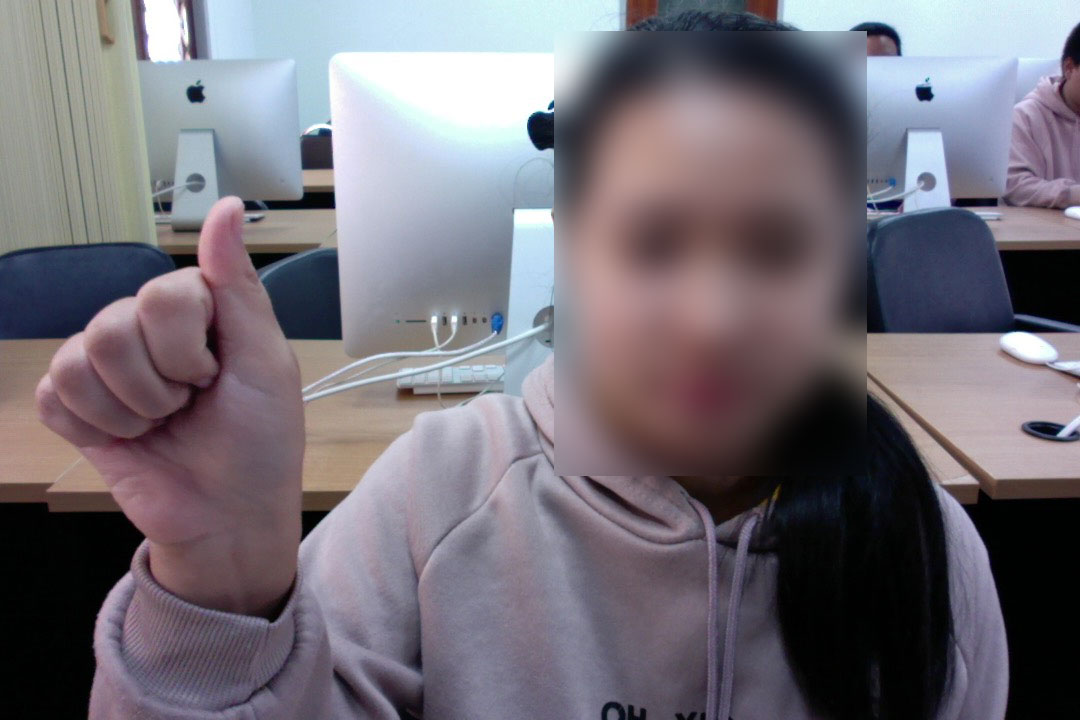or: (28, 191, 320, 585)
